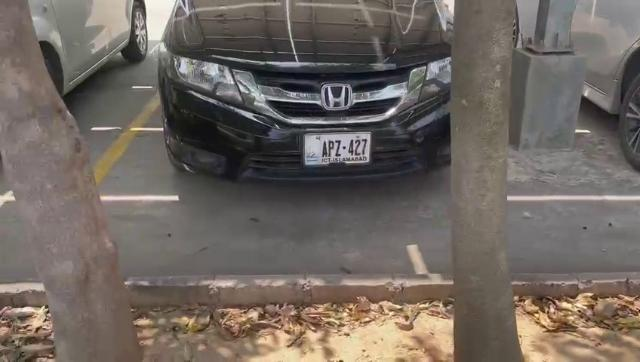plate: (299, 131, 373, 165)
